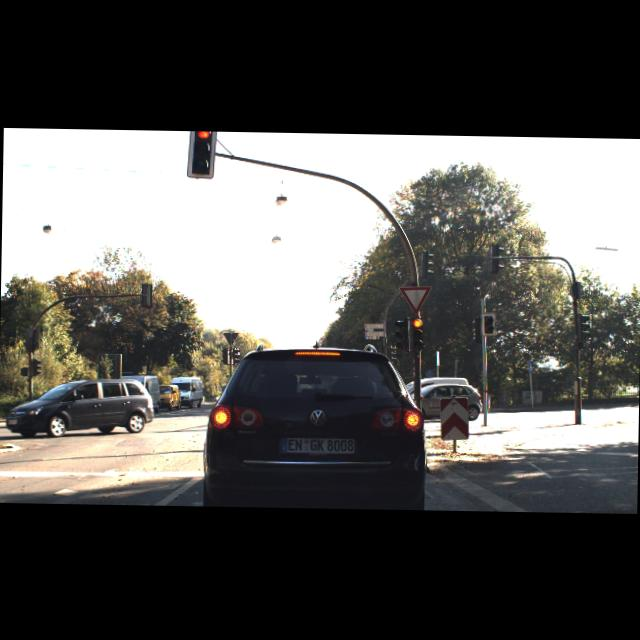other: (398, 284, 432, 315)
